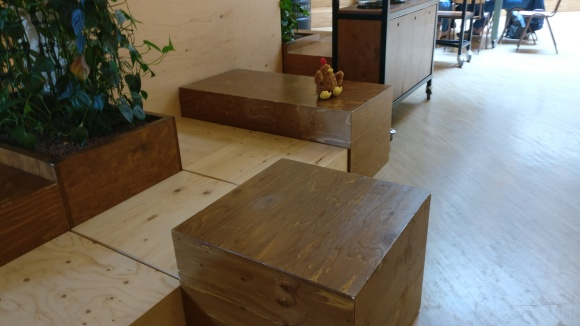chicken: (313, 56, 344, 101)
